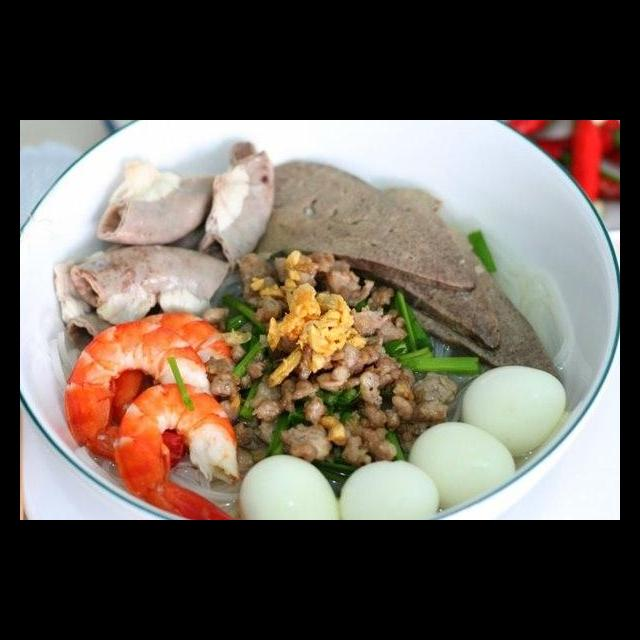banh hu tieu: (163, 453, 248, 520)
gan: (237, 155, 479, 297), (315, 179, 505, 354), (374, 230, 566, 388)
hu tieu: (58, 153, 616, 520)
thit bam: (197, 244, 460, 470)
tom: (58, 315, 218, 477), (104, 308, 243, 474), (108, 379, 245, 520)
trung: (403, 417, 520, 516), (456, 362, 570, 463), (232, 451, 346, 520), (334, 456, 443, 520)
